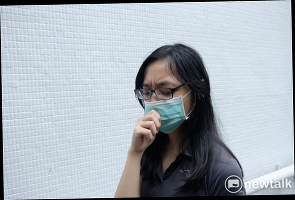with_mask: (140, 78, 190, 136)
